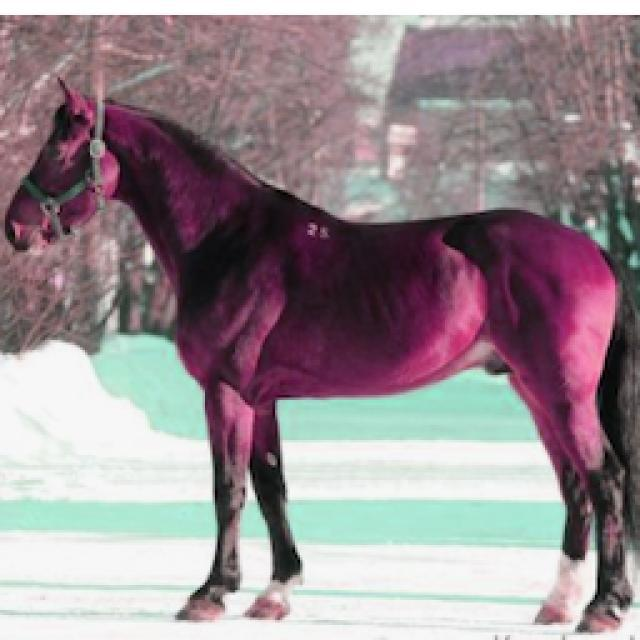Horse: (0, 70, 638, 635)
